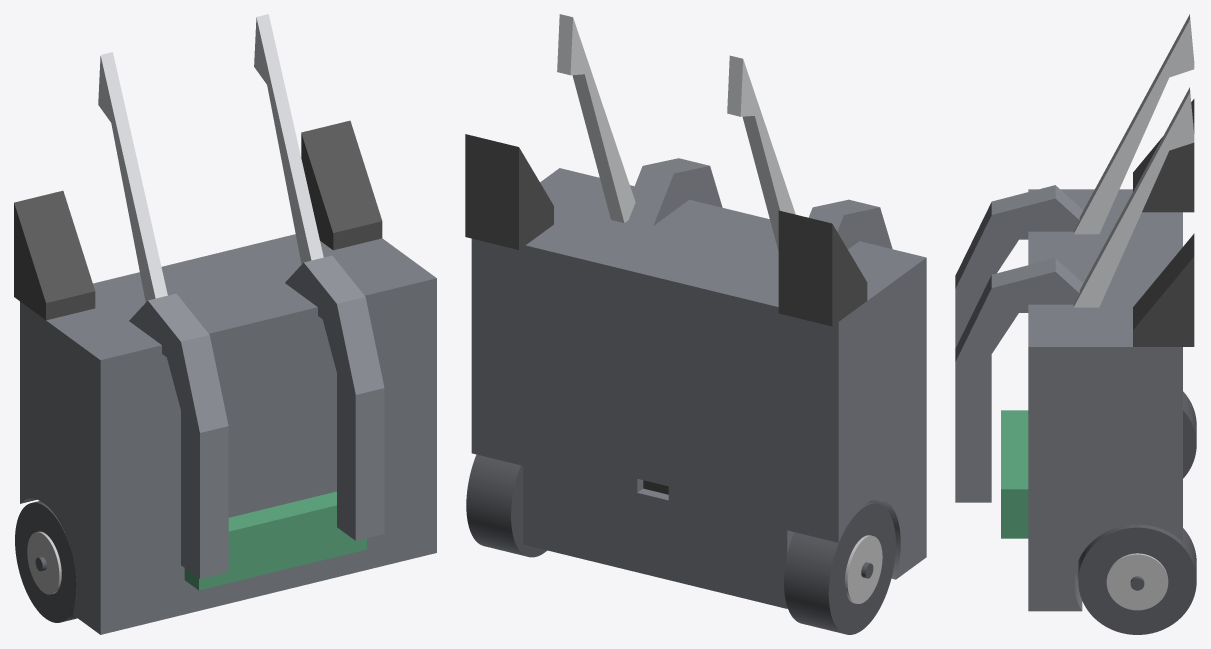
File: stronghold.glb
3 views of the same model, side by side, from view 1: azimuth 30°, elevation 25°; view 2: azimuth 150°, elevation 25°; view 3: azimuth 270°, elevation 25° (orthographic). The views are drawn at different scales.
Parts seen in each view (by area): view 1: chassis, arch_1, arch_0, pcb, foot_0, foot_1, fork_0, fork_1, wheel_r0, dt_hub_wheel_r0; view 2: chassis, wheel_r0, foot_0, foot_1, fork_1, wheel_l0, arch_1, fork_0, arch_0, dt_hub_wheel_r0; view 3: chassis, arch_1, wheel_l0, arch_0, foot_1, fork_0, fork_1, pcb, foot_0, dt_hub_wheel_l0, wheel_r0.
Boxes of the visible parts, <box> form: chassis: <box>20,234,436,634</box>; arch_1: <box>285,255,384,540</box>; arch_0: <box>129,293,228,578</box>; pcb: <box>184,491,366,590</box>; foot_0: <box>14,190,95,320</box>; foot_1: <box>301,120,382,250</box>; fork_0: <box>98,52,167,302</box>; fork_1: <box>254,14,323,264</box>; wheel_r0: <box>15,501,77,622</box>; dt_hub_wheel_r0: <box>27,531,61,594</box>; chassis: <box>471,168,926,608</box>; wheel_r0: <box>784,502,895,634</box>; foot_0: <box>778,210,867,326</box>; foot_1: <box>465,134,553,249</box>; fork_1: <box>557,14,635,222</box>; wheel_l0: <box>466,454,546,557</box>; arch_1: <box>629,158,722,225</box>; fork_0: <box>727,55,795,251</box>; arch_0: <box>809,199,892,249</box>; dt_hub_wheel_r0: <box>845,535,882,603</box>; chassis: <box>1028,189,1182,611</box>; arch_1: <box>955,258,1083,502</box>; wheel_l0: <box>1078,524,1196,634</box>; arch_0: <box>955,185,1083,348</box>; foot_1: <box>1133,233,1194,346</box>; fork_0: <box>1073,14,1194,234</box>; fork_1: <box>1073,87,1194,307</box>; pcb: <box>1001,410,1028,538</box>; foot_0: <box>1133,99,1194,212</box>; dt_hub_wheel_l0: <box>1106,553,1168,610</box>; wheel_r0: <box>1183,391,1196,478</box>.
Bounding box in the file's own units: 84.2 × 122 × 53.
